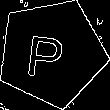P_N: (30, 26, 73, 80)
